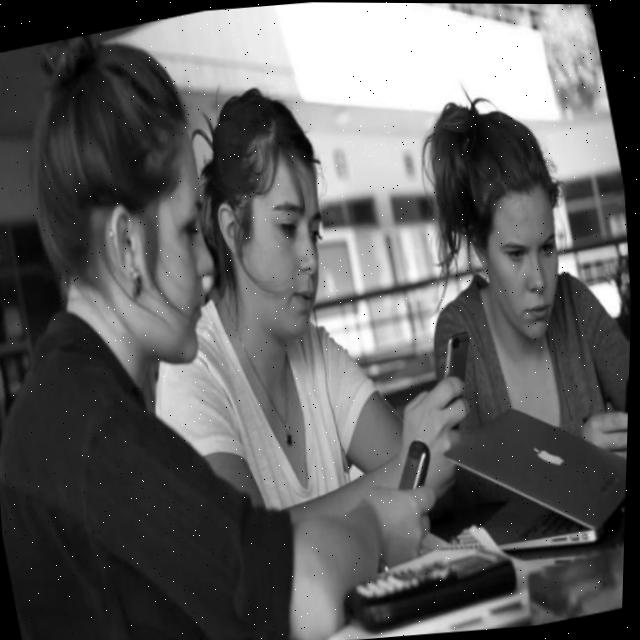phone: (435, 329, 482, 399), (390, 435, 440, 494), (618, 368, 632, 422)
